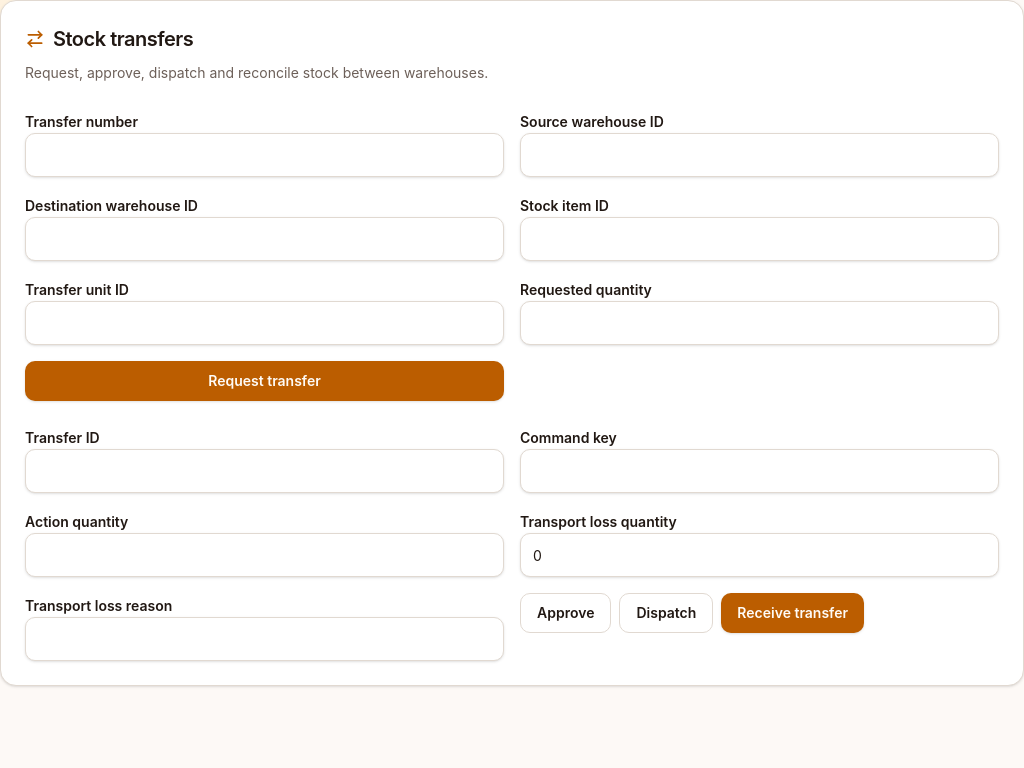
Test: stock transfer lifecycle › preserves action input on conflict
Type "t1" into the field labelled "Transfer ID" at {"x": 264, "y": 471}, box [25, 449, 504, 493]
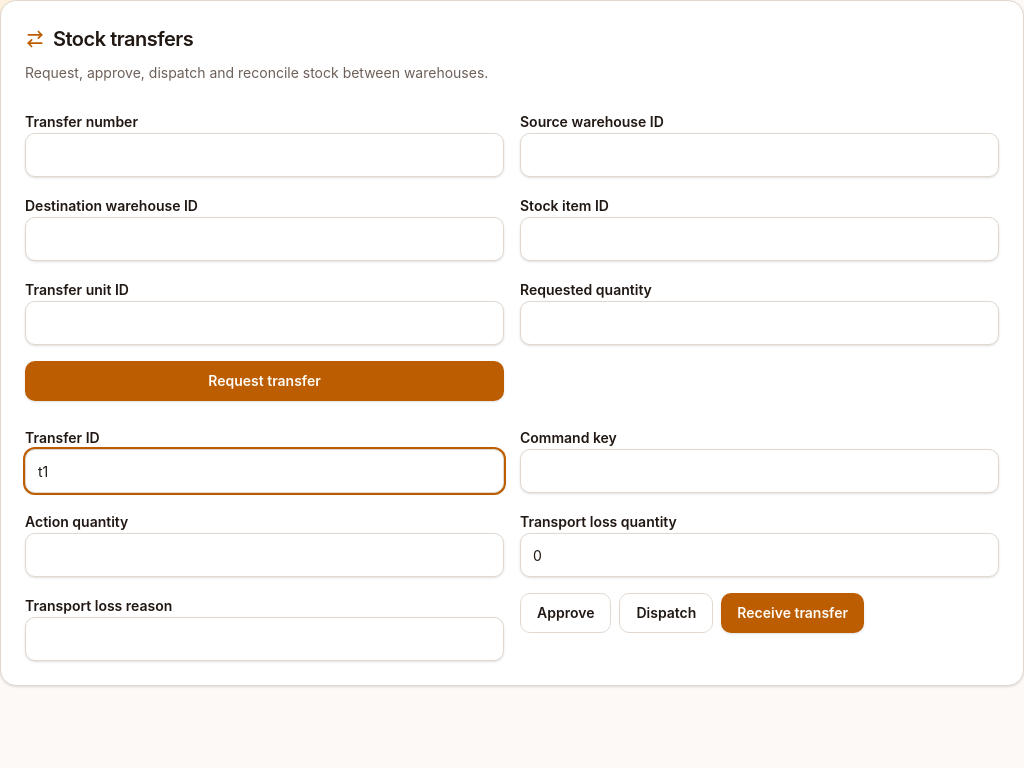
Type "receive-1" into the field labelled "Command key" at {"x": 760, "y": 471}, box [520, 449, 999, 493]
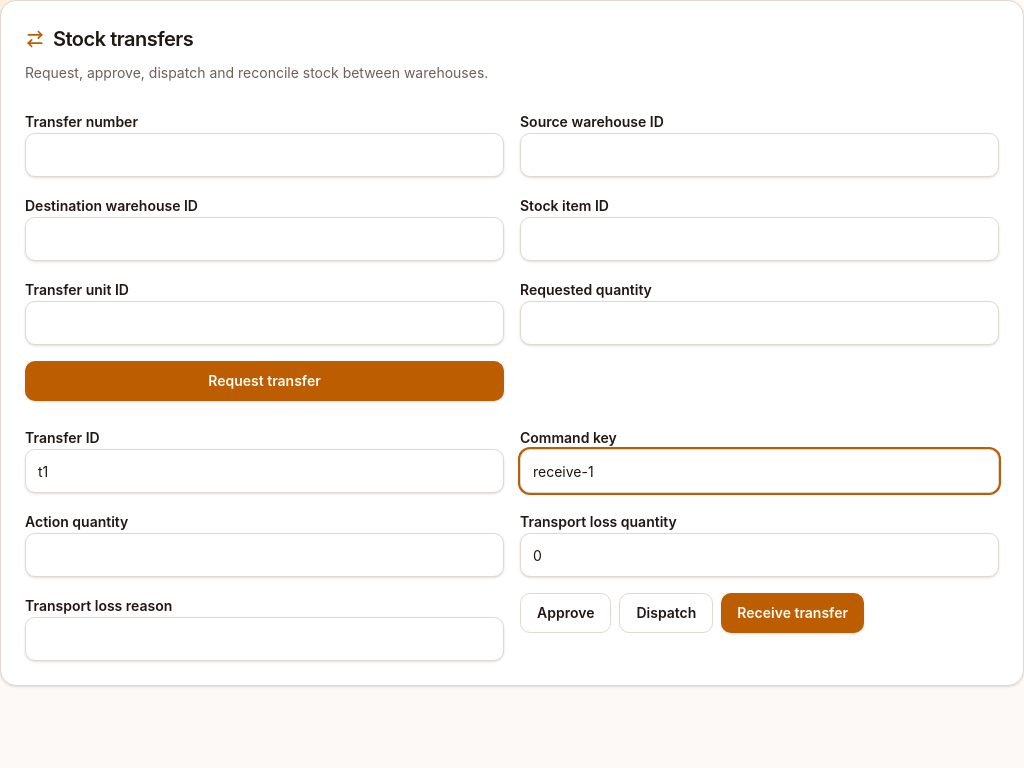
Type "5" into the field labelled "Action quantity" at {"x": 264, "y": 555}, box [25, 533, 504, 577]
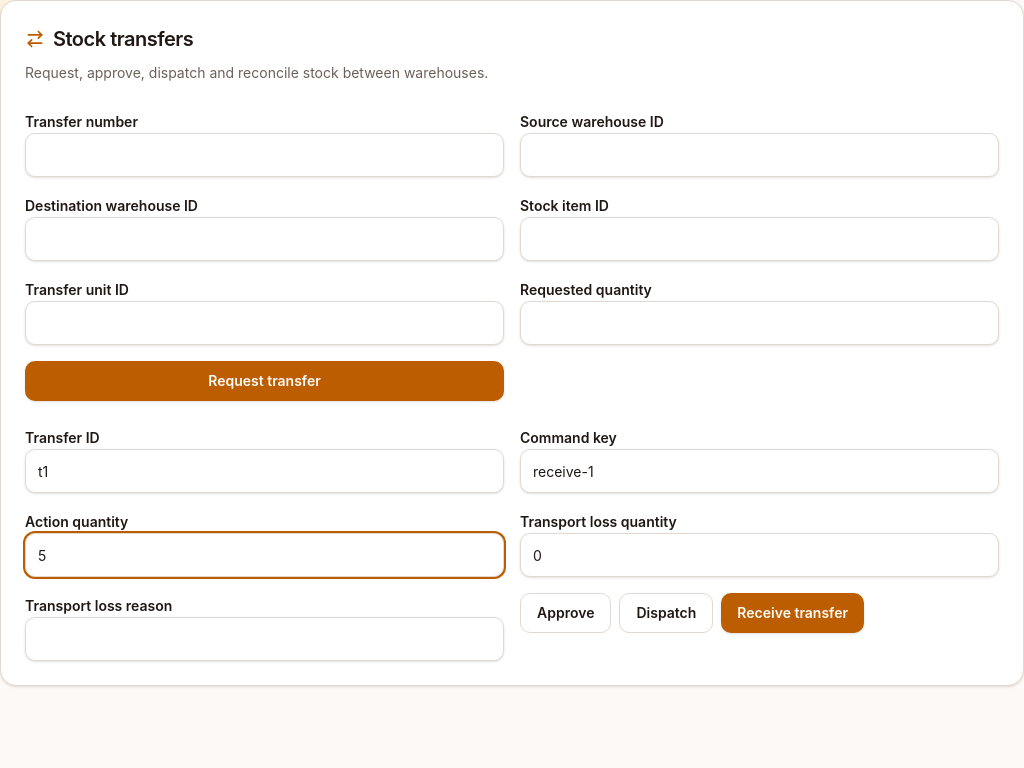
Click the button "Receive transfer" at {"x": 793, "y": 613}, box [721, 593, 864, 633]
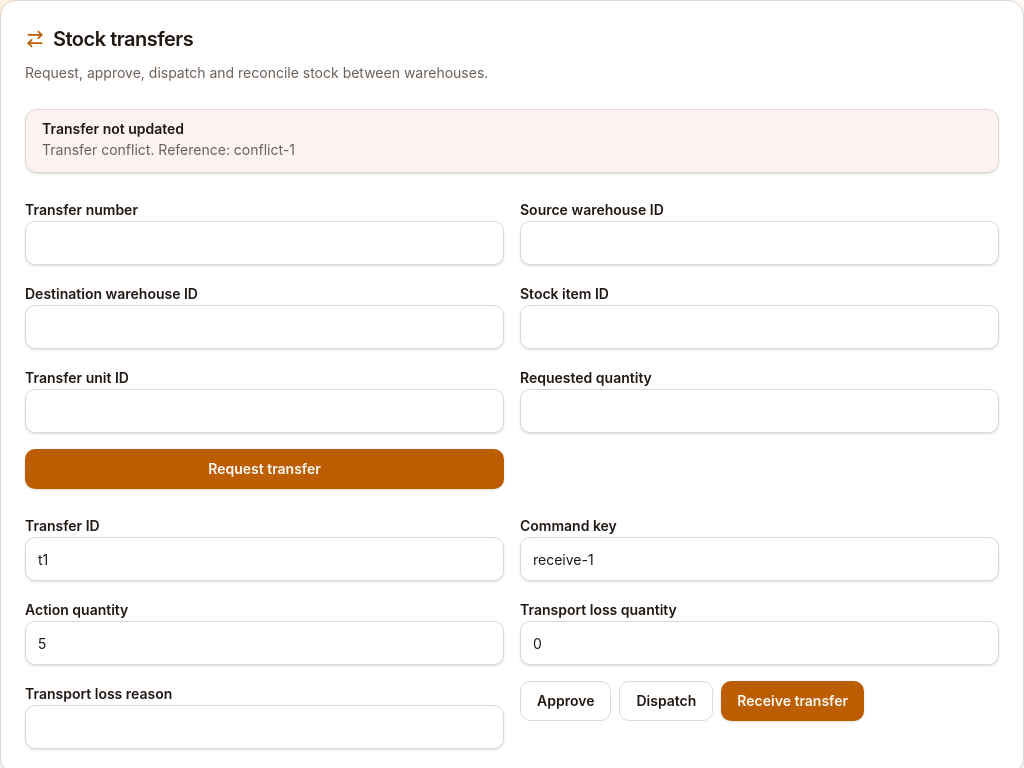
Result: the message shows "conflict-1" at [42, 141, 295, 158]
